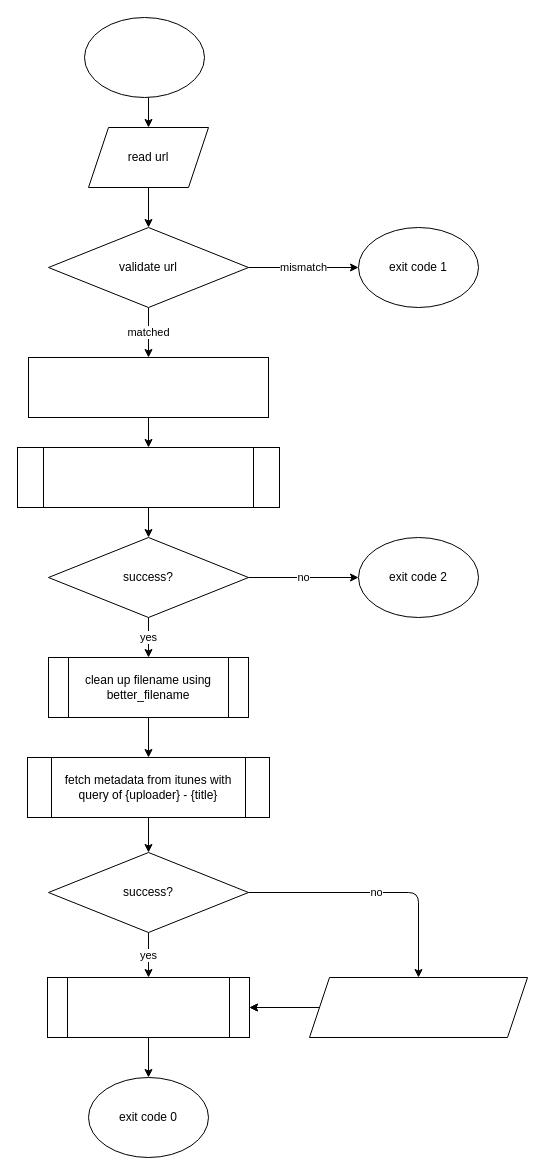
The diagram is 545 pixels wide and 1175 high, and some of its shapes have lost their labels. Each missing label, with the box of its shape:
download mp3 and retrive metadata using download_mp3: (16, 446, 280, 508)
embed metadata to mp3: (46, 976, 250, 1038)
make the folder exist_ok: (28, 356, 268, 418)
print failed to fetch: (308, 976, 528, 1038)
start: (84, 16, 204, 98)
